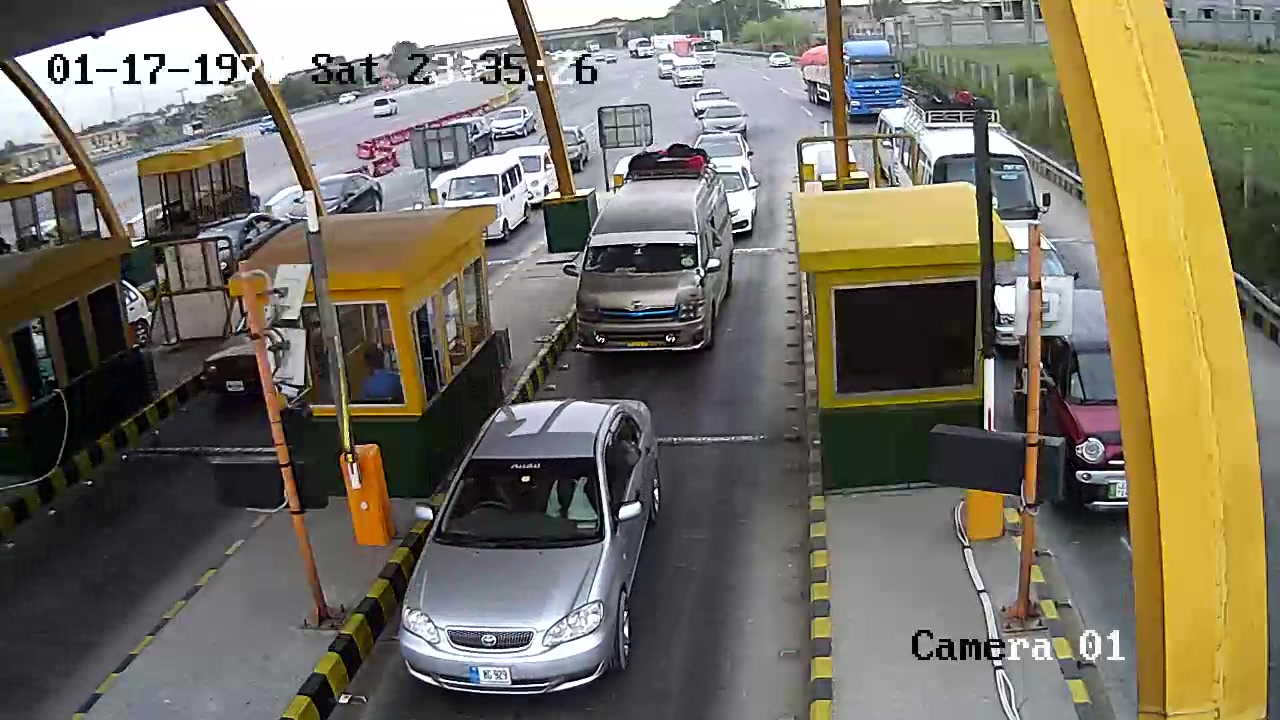F1: (395, 394, 688, 696)
F2: (569, 143, 735, 359)
